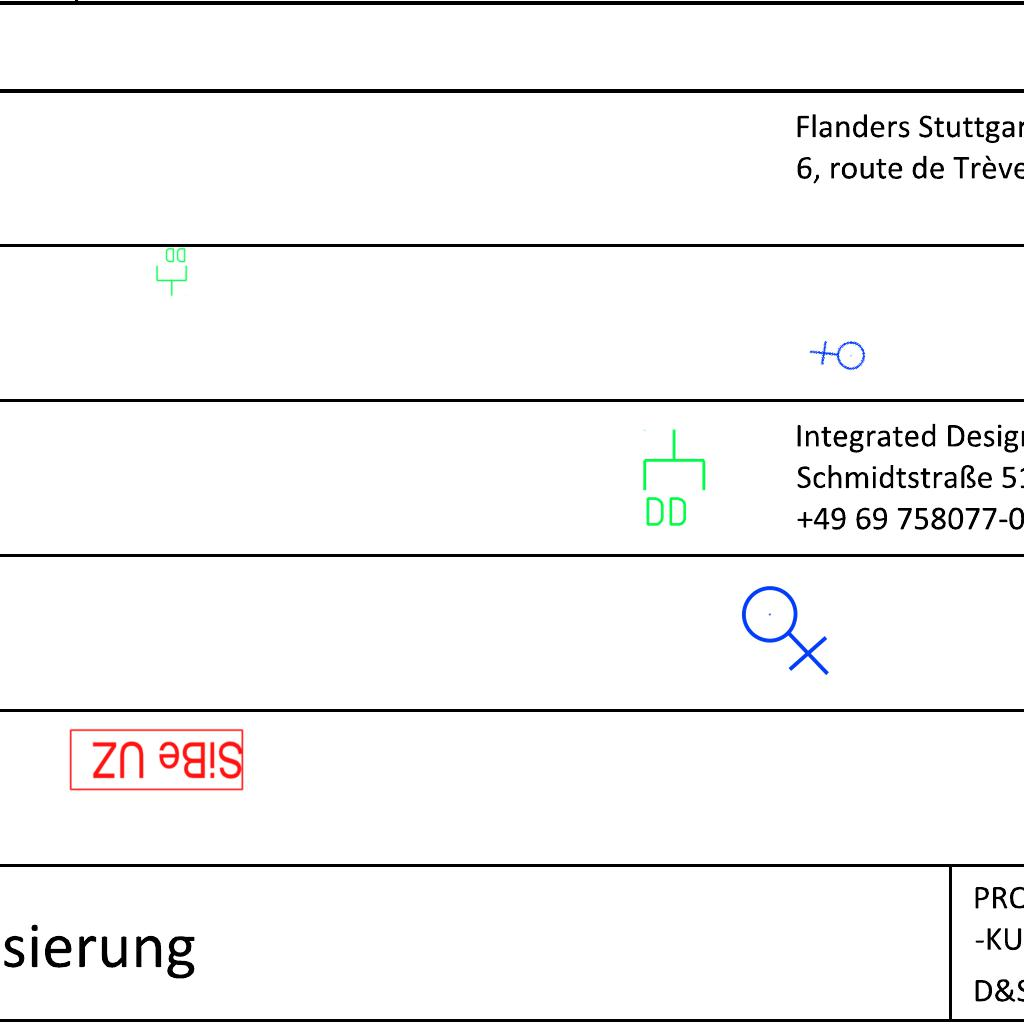Datenanschluss_zweifach: (639, 427, 708, 530), (155, 246, 189, 297)
Elektroanschluss_allgemein_230V_Geraeteanschlussdose_230V: (740, 577, 834, 676), (806, 322, 875, 391)
Zentrale_Sicherheitsbeleuchtung: (67, 727, 245, 792)
